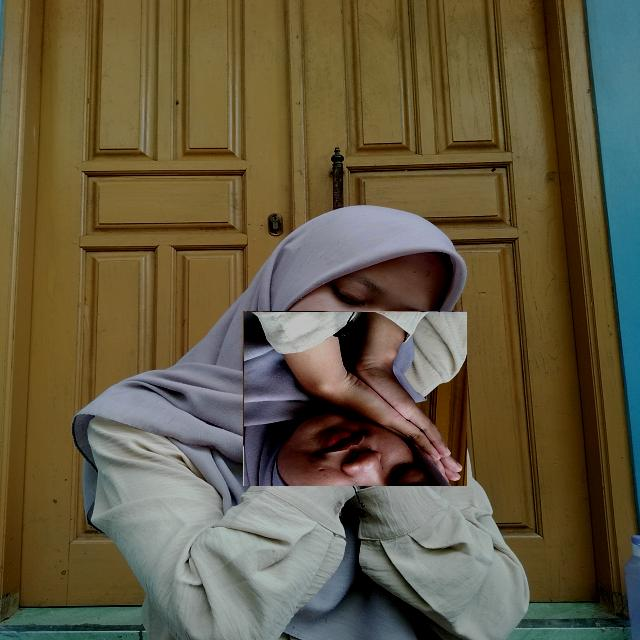tidur: (243, 311, 467, 486)
